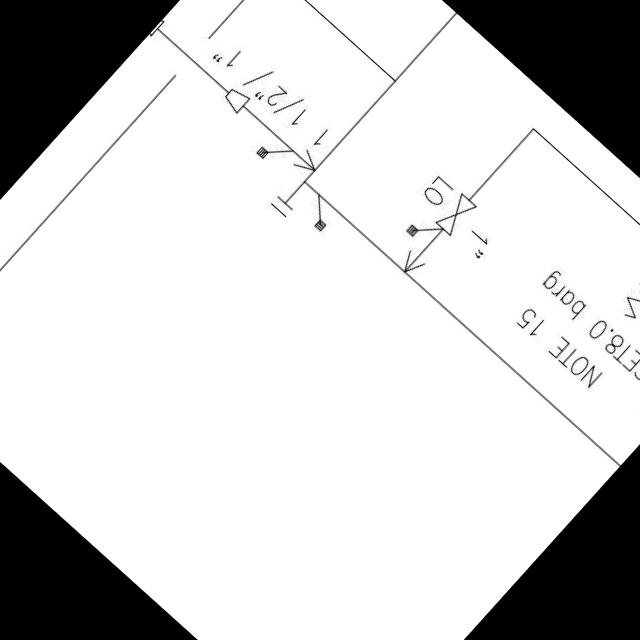GV: (422, 182, 481, 242)
RPV: (599, 219, 640, 330)
SP: (218, 80, 254, 116)
